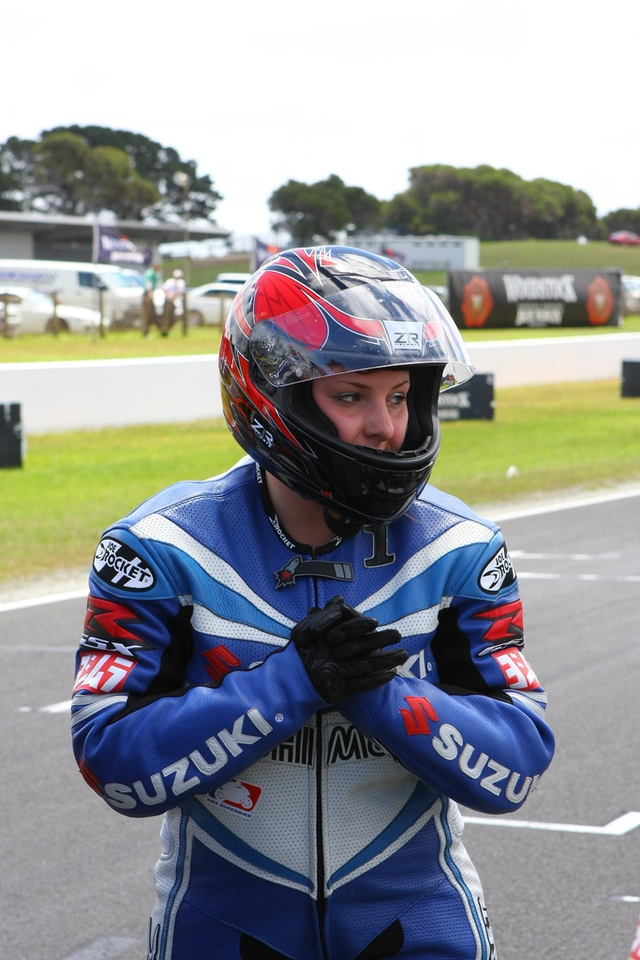helmet: (221, 245, 472, 505)
